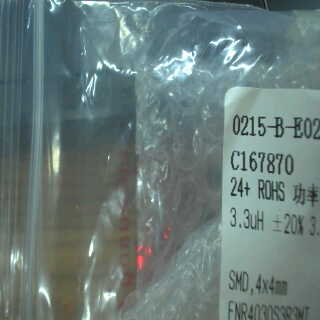3.3uH: (228, 202, 267, 235)
